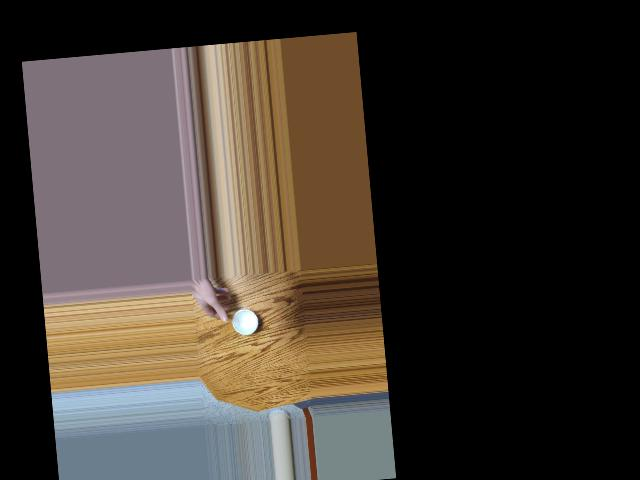cotage: (228, 301, 264, 341)
